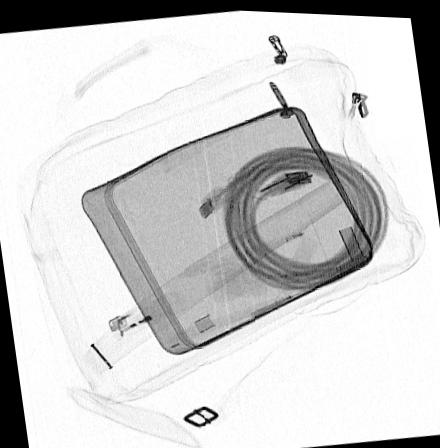Lighter: (108, 289, 185, 340)
